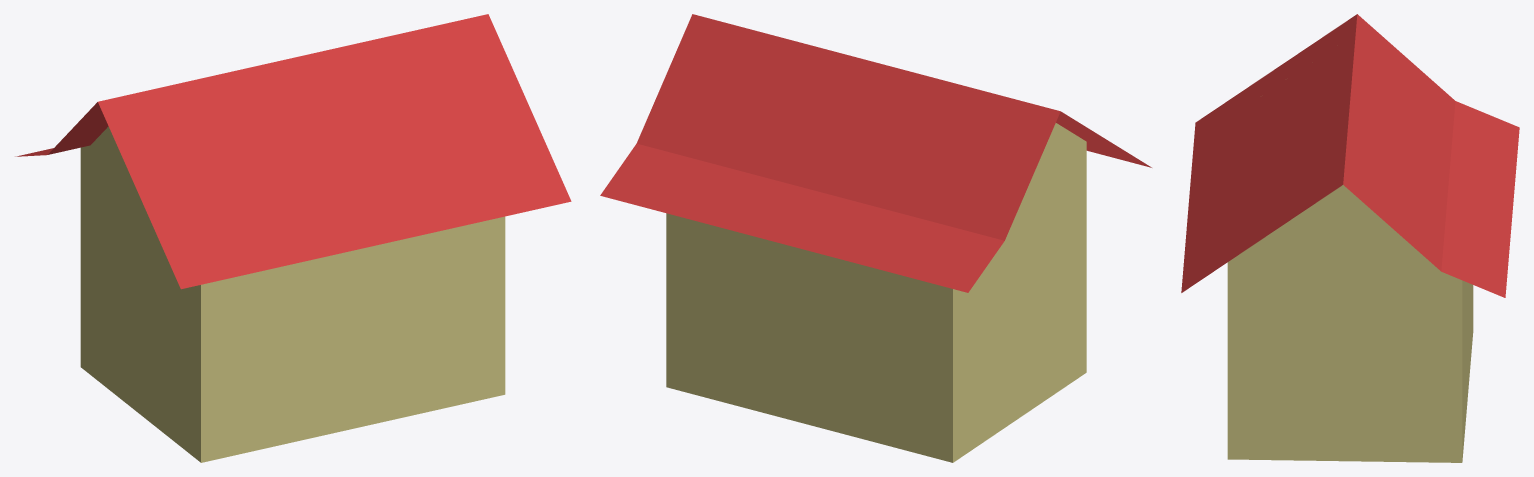
3 views of the same model, side by side, from view 1: azimuth 30°, elevation 25°; view 2: azimuth 150°, elevation 25°; view 3: azimuth 270°, elevation 25° (orthographic). The views are drawn at different scales.
Size of the model in its own units: 13.94 by 11.35 by 10.93.
